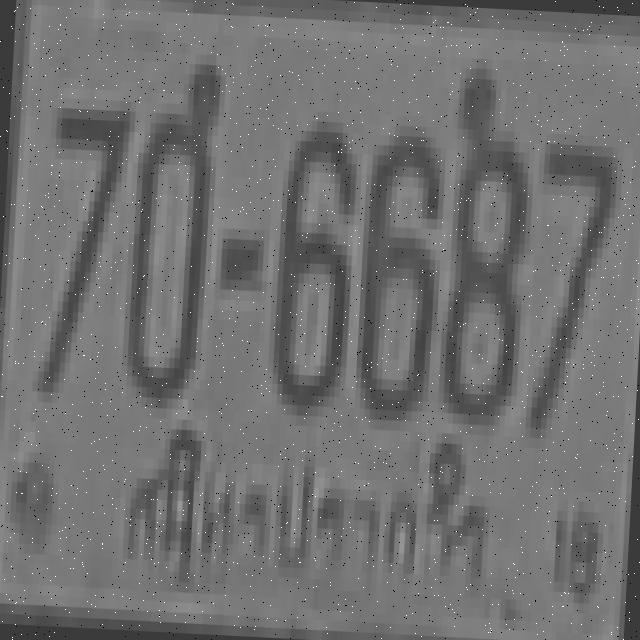0: (121, 56, 216, 395)
6: (266, 110, 354, 408), (352, 114, 440, 412)
7: (38, 97, 126, 396), (526, 133, 614, 431)
8: (435, 118, 528, 416)
SamutPrakan: (107, 429, 495, 604)
